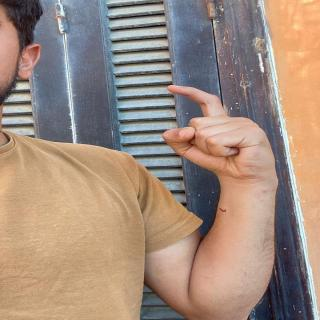RAA: (157, 75, 286, 185)
